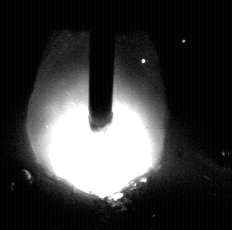arame: (89, 0, 114, 132)
poca: (25, 0, 167, 230)
